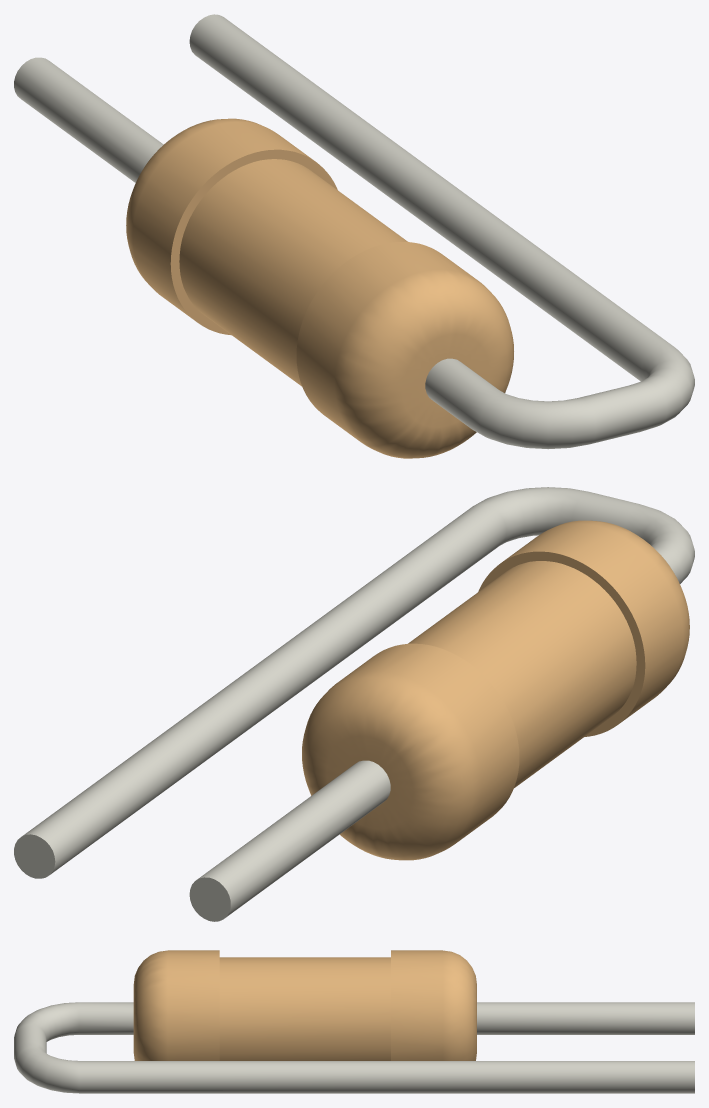
The model's file is r-axial-din0207-l6.3-d2.5-p2.54-v.glb.
3 renders of one model, top to bottom at view 1: azimuth 30°, elevation 25°; view 2: azimuth 150°, elevation 25°; view 3: azimuth 270°, elevation 25°, orthographic. The views are drawn at different scales.
Parts seen in each view (by area): view 1: RES-THT-01, PIN-01; view 2: RES-THT-01, PIN-01; view 3: RES-THT-01, PIN-01.
Part boxes in pixels (x1=…): RES-THT-01: x1=126, y1=118, x2=513, y2=458; PIN-01: x1=14, y1=14, x2=694, y2=449; RES-THT-01: x1=302, y1=520, x2=689, y2=860; PIN-01: x1=14, y1=487, x2=694, y2=921; RES-THT-01: x1=133, y1=950, x2=476, y2=1060; PIN-01: x1=14, y1=1002, x2=694, y2=1093.
Size of the model in its own units: 4.09 by 2.5 by 12.5.
